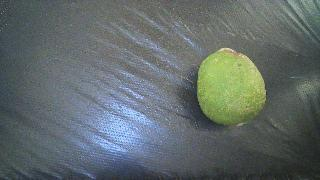DESECHO: (197, 48, 266, 125)
